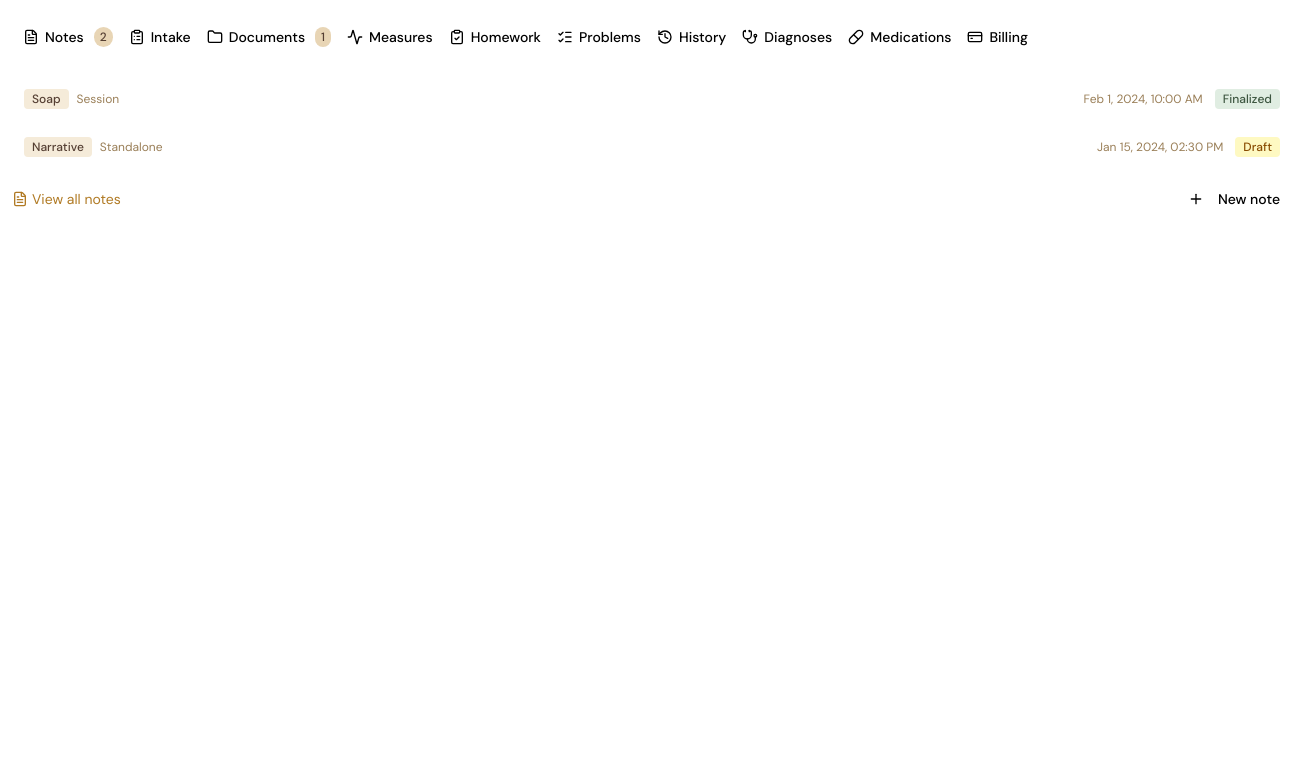
PatientChartTabs › puts balance, payments and insurance under one Billing tab
Expected: the tab "payments" is not shown
Expected: the tab "balance" is not shown
Click the tab "Billing" at x=998, y=37, box [960,22,1036,52]
(page scrolled)
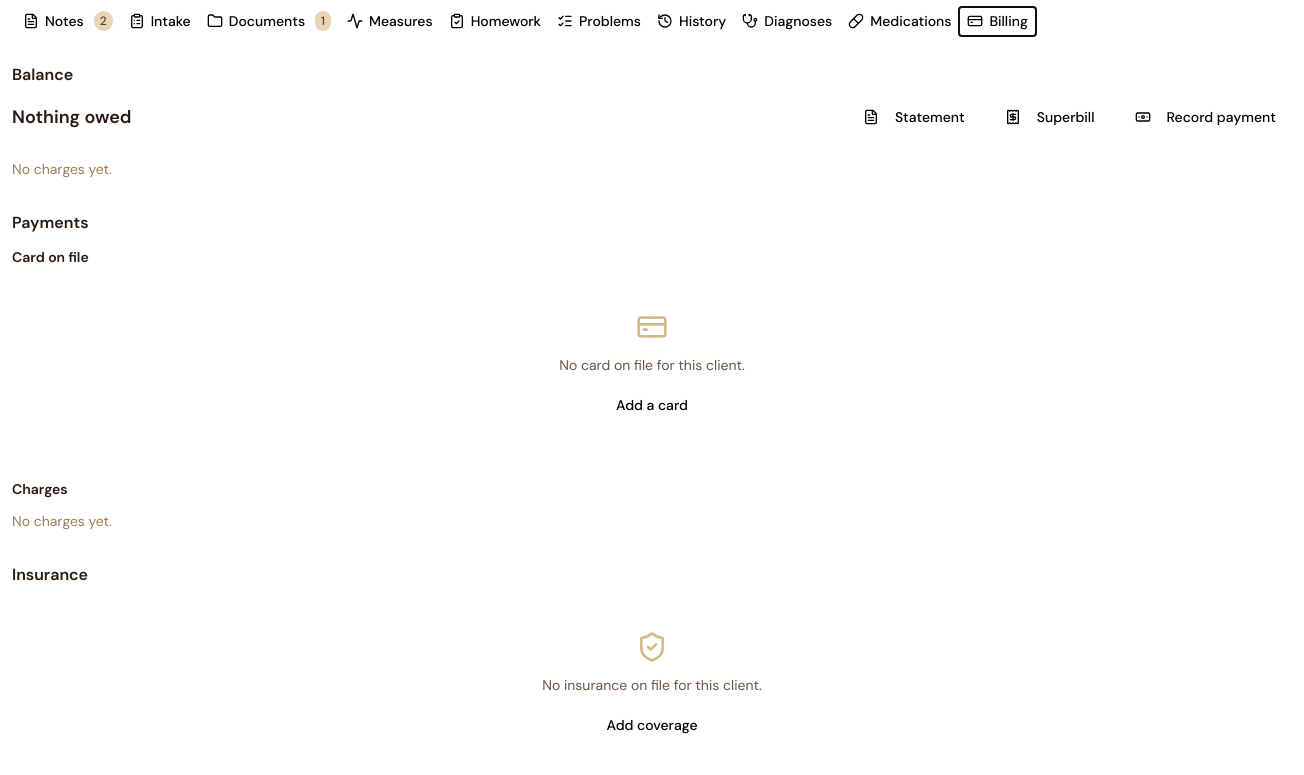
Expected: the element "Balance" is shown, [12,63,1292,179]
Expected: the element "Payments" is shown, [12,212,745,530]
Expected: the element "Insurance" is shown, [12,564,762,743]
